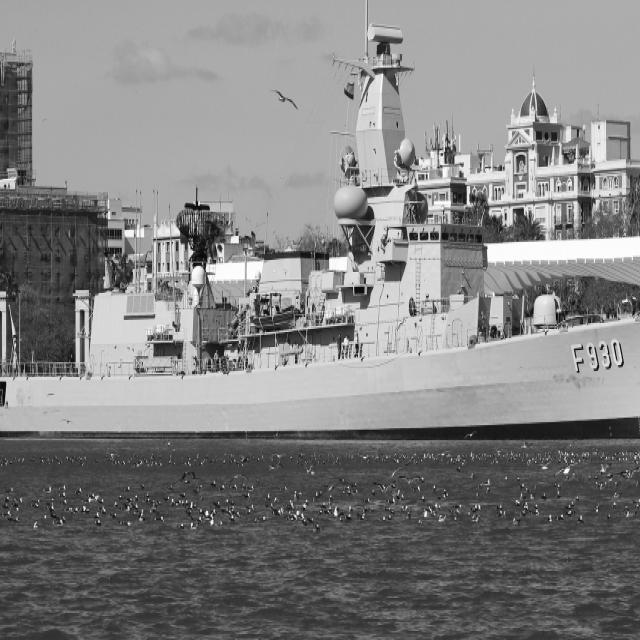Fragata: (1, 18, 640, 441)
